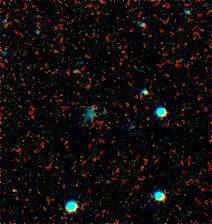star: (0, 175, 29, 205)
